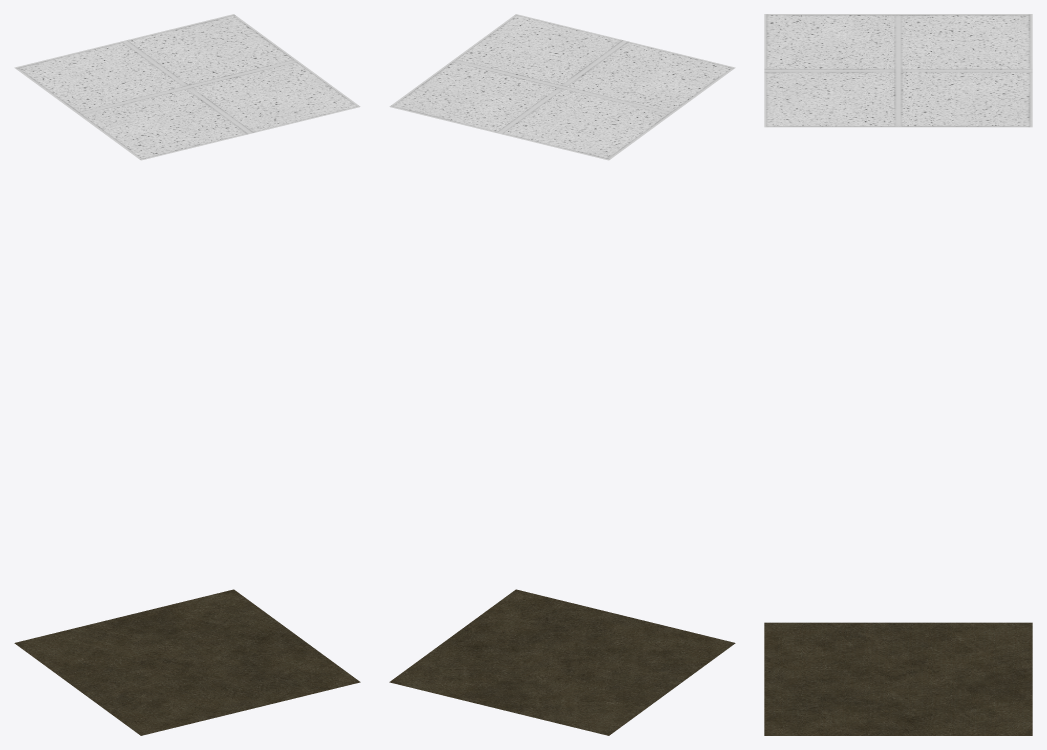
The model's file is TileEmpty.gltf.
The picture shows the model from 3 angles, left to right: view 1: azimuth 30°, elevation 25°; view 2: azimuth 150°, elevation 25°; view 3: azimuth 270°, elevation 25°; orthographic projection. The views are drawn at different scales.
Parts seen in each view (by area): view 1: [intangible]Empty; view 2: [intangible]Empty; view 3: [intangible]Empty.
Part boxes in pixels (bbox=[...]): [intangible]Empty: bbox=[14, 14, 360, 735]; [intangible]Empty: bbox=[389, 14, 735, 735]; [intangible]Empty: bbox=[764, 14, 1032, 735].
Size of what is drawn, in the model's own units: 1 by 2.5 by 1.
2 materials, 2 textured.
